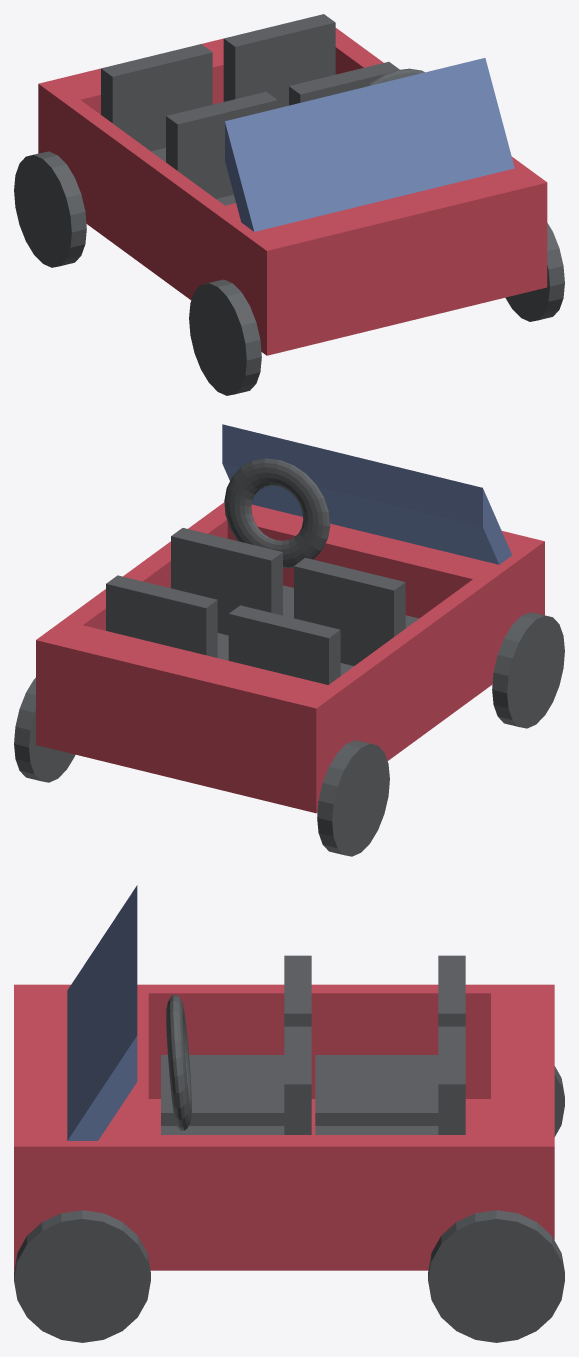
File: Car.glb
3 renders of one model, top to bottom at view 1: azimuth 30°, elevation 25°; view 2: azimuth 150°, elevation 25°; view 3: azimuth 270°, elevation 25°, orthographic. The views are drawn at different scales.
Visible parts, largest first — view 1: Mesh_Mesh_head_geo.001_lambert2SG.001; view 2: Mesh_Mesh_head_geo.001_lambert2SG.001; view 3: Mesh_Mesh_head_geo.001_lambert2SG.001.
Boxes of the visible parts, x1,y1,x2,y2 form: Mesh_Mesh_head_geo.001_lambert2SG.001: (14, 14, 564, 395); Mesh_Mesh_head_geo.001_lambert2SG.001: (14, 424, 564, 856); Mesh_Mesh_head_geo.001_lambert2SG.001: (14, 885, 564, 1342).
Bounding box in the file's own units: 63.5 × 47 × 80.5.
